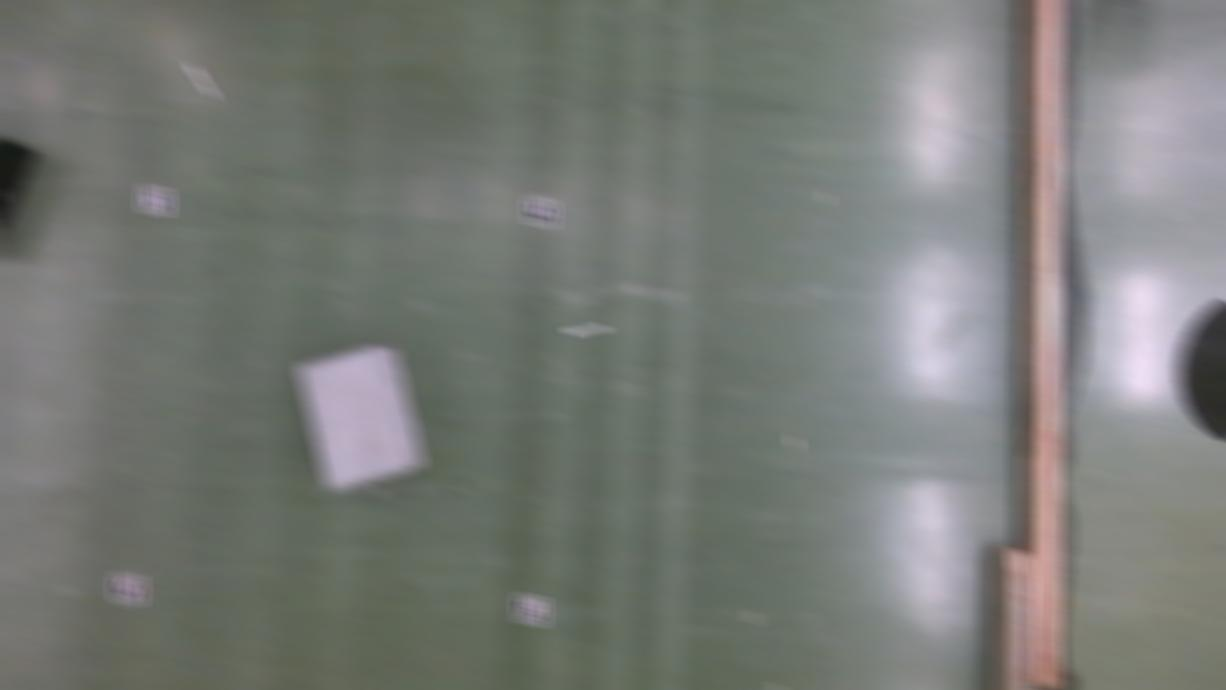probes: (188, 62, 217, 100), (564, 322, 610, 337)
rako: (296, 341, 424, 491), (0, 122, 37, 256)
